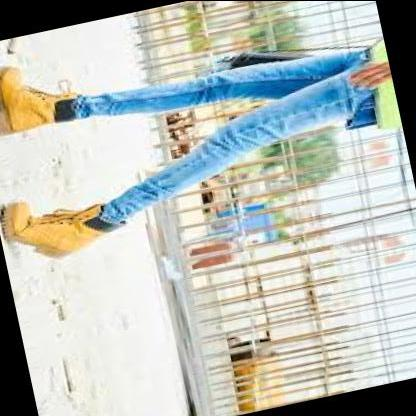safety-shoe: (1, 166, 105, 280), (1, 46, 75, 151)
